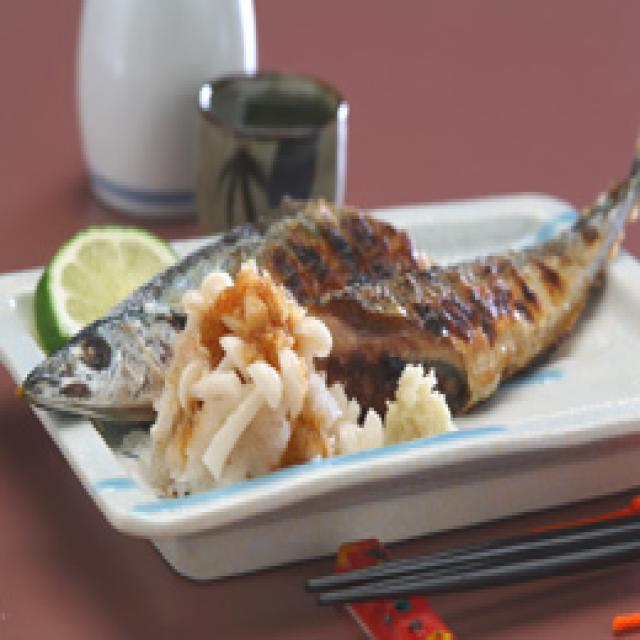熟制海鲜: (0, 182, 640, 441)
